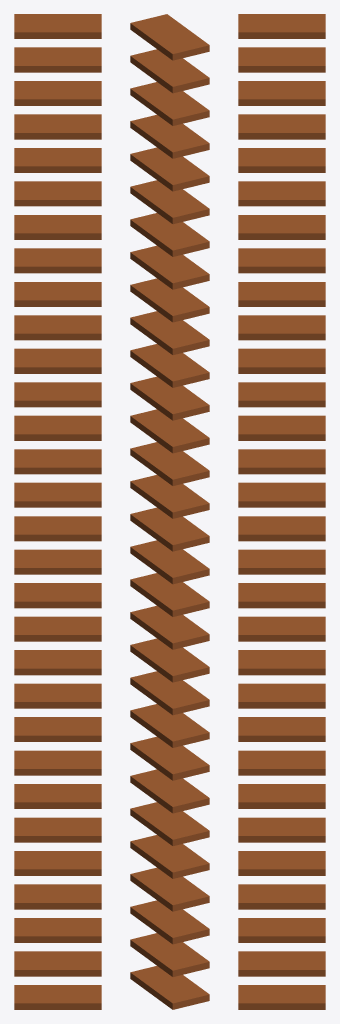
File: Ladder.fbx
3 renders of one model, left to right at view 1: azimuth 90°, elevation 25°; view 2: azimuth 210°, elevation 25°; view 3: azimuth 270°, elevation 25°, orthographic. The views are drawn at different scales.
Parts seen in each view (by area): view 1: Ladder; view 2: Ladder; view 3: Ladder.
Boxes of the visible parts, x1,y1,x2,y2 form: Ladder: (14,14,101,1009); Ladder: (130,14,209,1009); Ladder: (238,14,325,1009).
Bounding box in the file's own units: 39.9 × 985 × 79.6.
